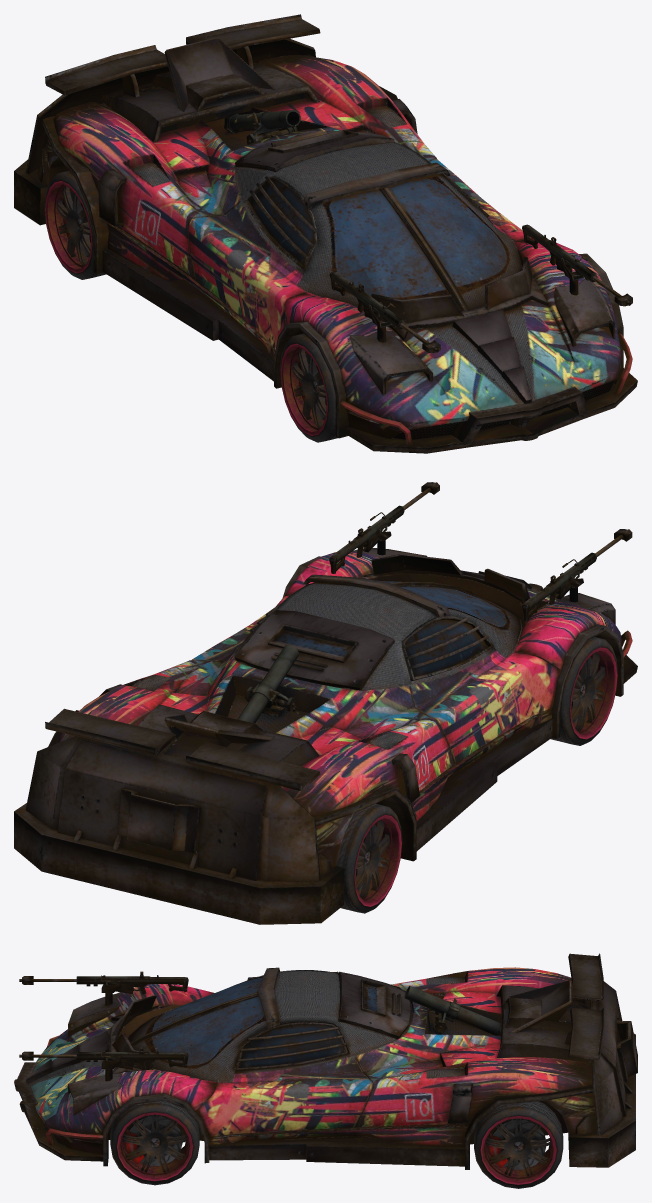
File: pagani.glb
3 renders of one model, top to bottom at view 1: azimuth 30°, elevation 25°; view 2: azimuth 150°, elevation 25°; view 3: azimuth 270°, elevation 25°, orthographic. The views are drawn at different scales.
Visible parts, largest first — view 1: PaganiZonda; view 2: PaganiZonda; view 3: PaganiZonda.
Part boxes in pixels (x1,y1,x2,y2): PaganiZonda: [14, 14, 637, 453]; PaganiZonda: [14, 482, 637, 924]; PaganiZonda: [14, 953, 637, 1188].
Size of the model in its own units: 2.64 by 1.41 by 5.54.
1 material, 1 textured.
